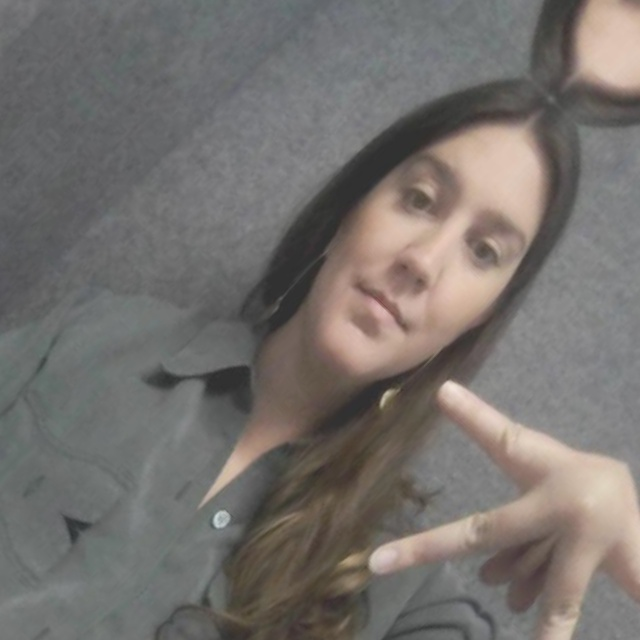Scissors: (312, 326, 629, 640)
